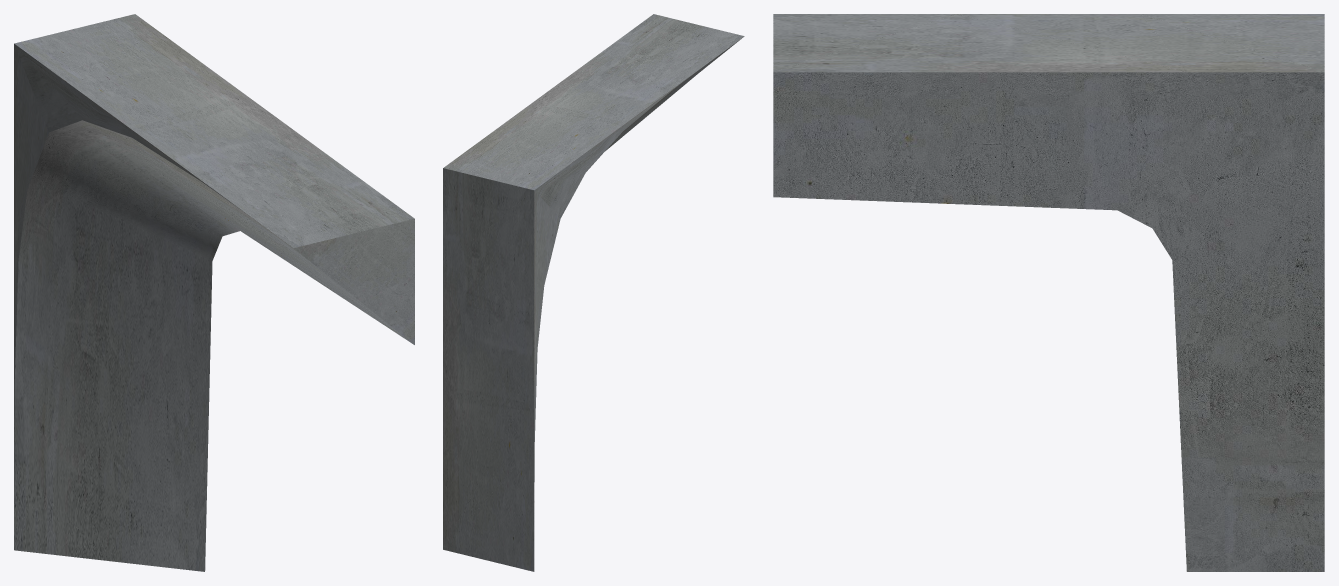
File: module_C2.fbx
3 renders of one model, left to right at view 1: azimuth 30°, elevation 25°; view 2: azimuth 150°, elevation 25°; view 3: azimuth 270°, elevation 25°, orthographic. The views are drawn at different scales.
Parts seen in each view (by area): view 1: modules; view 2: modules; view 3: modules.
Boxes of the visible parts, x1,y1,x2,y2 form: modules: [14, 14, 414, 571]; modules: [443, 14, 744, 571]; modules: [773, 14, 1324, 571].
Size of the model in its own units: 250 by 1000 by 1000.
1 material, 1 textured.
